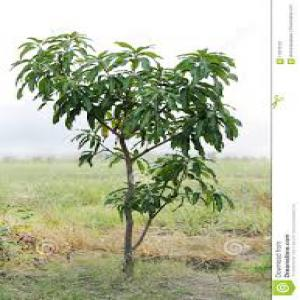Tree: (6, 30, 233, 271)
